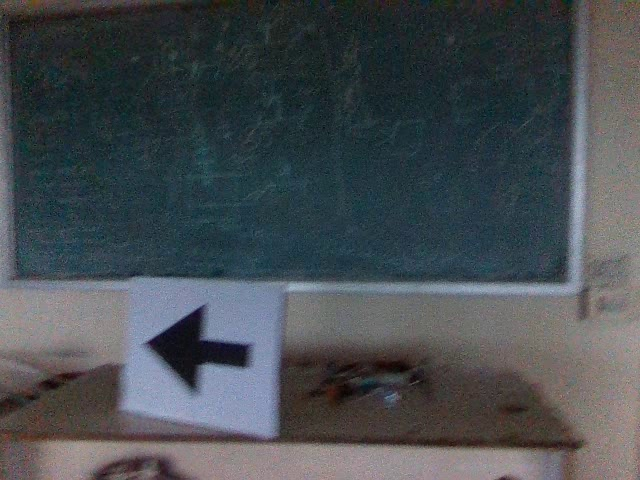Left: (140, 300, 256, 397)
